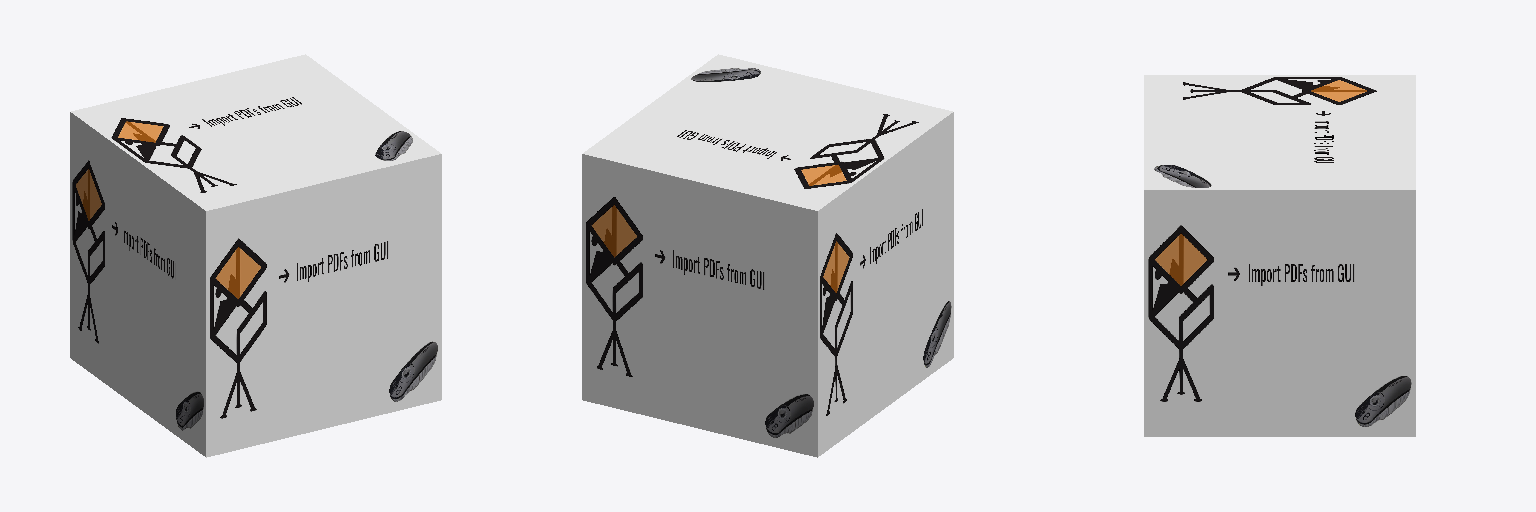
3 renders of one model, left to right at view 1: azimuth 30°, elevation 25°; view 2: azimuth 150°, elevation 25°; view 3: azimuth 270°, elevation 25°, orthographic.
Parts seen in each view (by area): view 1: demo_slide-1; view 2: demo_slide-1; view 3: demo_slide-1.
Part boxes in pixels (left/top/right/bottom): demo_slide-1: left=70, top=54, right=441, bottom=457; demo_slide-1: left=582, top=54, right=953, bottom=457; demo_slide-1: left=1144, top=75, right=1415, bottom=436.
Size of the model in its own units: 1 by 1 by 1.
Materials: 1 (1 with a texture image).